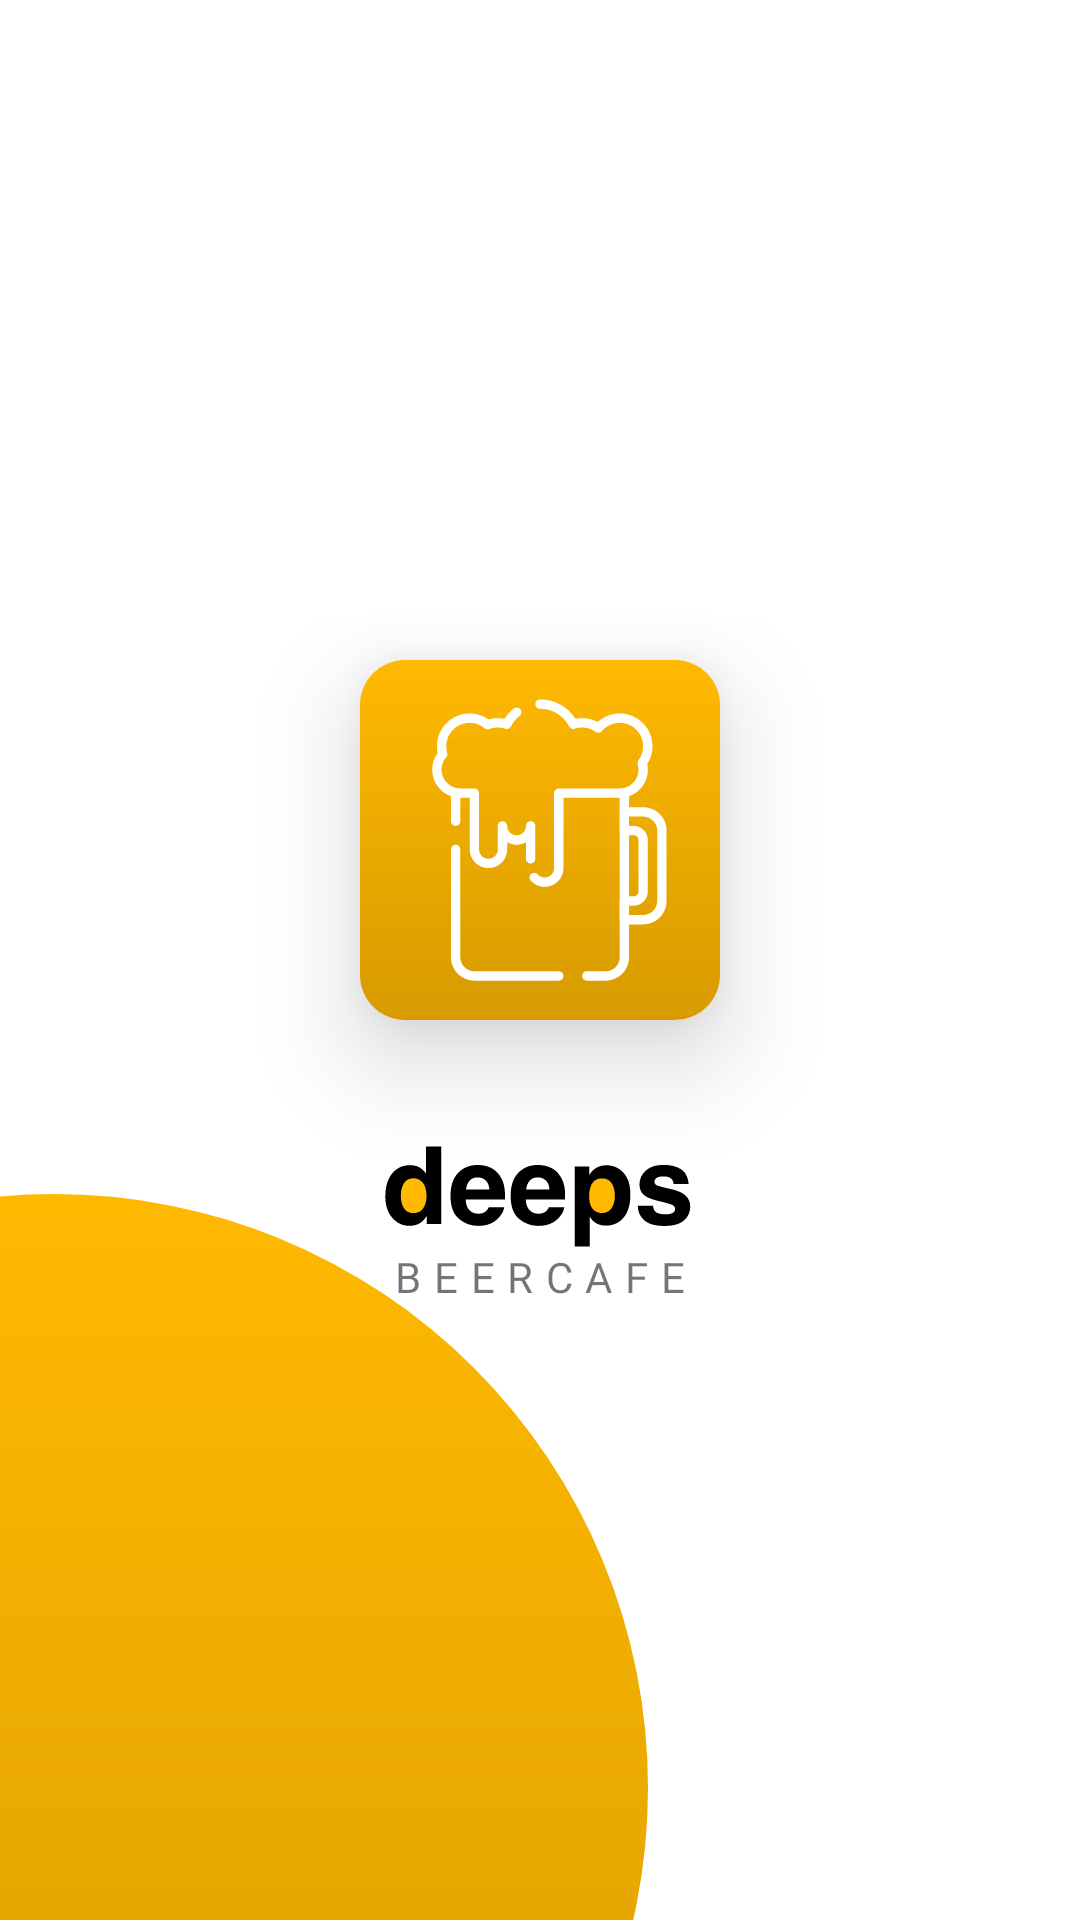

Screen size 1080 × 1920. Icon name, then its box in pixels as (x1, y1, x2, y2):
beer glass: (360, 660, 720, 1020)
